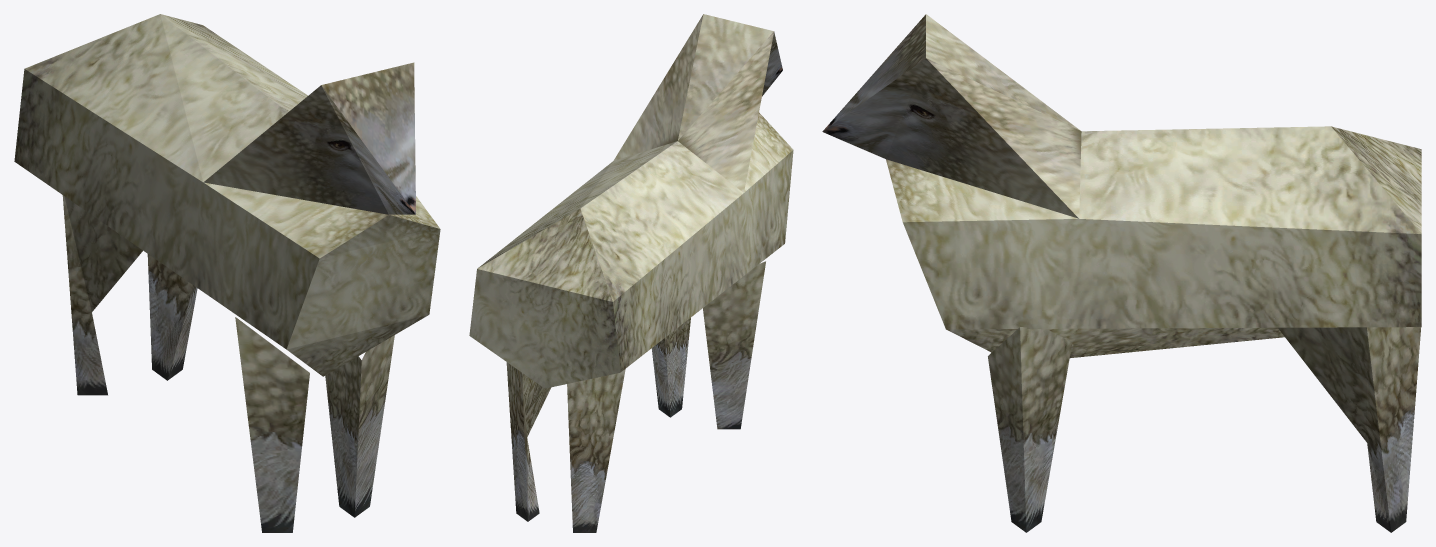
File: sheep-stand1-cbj_LOD03.gltf
The picture shows the model from 3 angles, left to right: view 1: azimuth 30°, elevation 25°; view 2: azimuth 150°, elevation 25°; view 3: azimuth 270°, elevation 25°; orthographic projection. The views are drawn at different scales.
Parts seen in each view (by area): view 1: Cylinder; view 2: Cylinder; view 3: Cylinder.
Part boxes in pixels (bbox=[...]): Cylinder: bbox=[14, 14, 440, 532]; Cylinder: bbox=[469, 14, 793, 532]; Cylinder: bbox=[822, 14, 1421, 532].
Size of what is drawn, in the model's own units: 0.5284 by 1.23 by 1.42.
